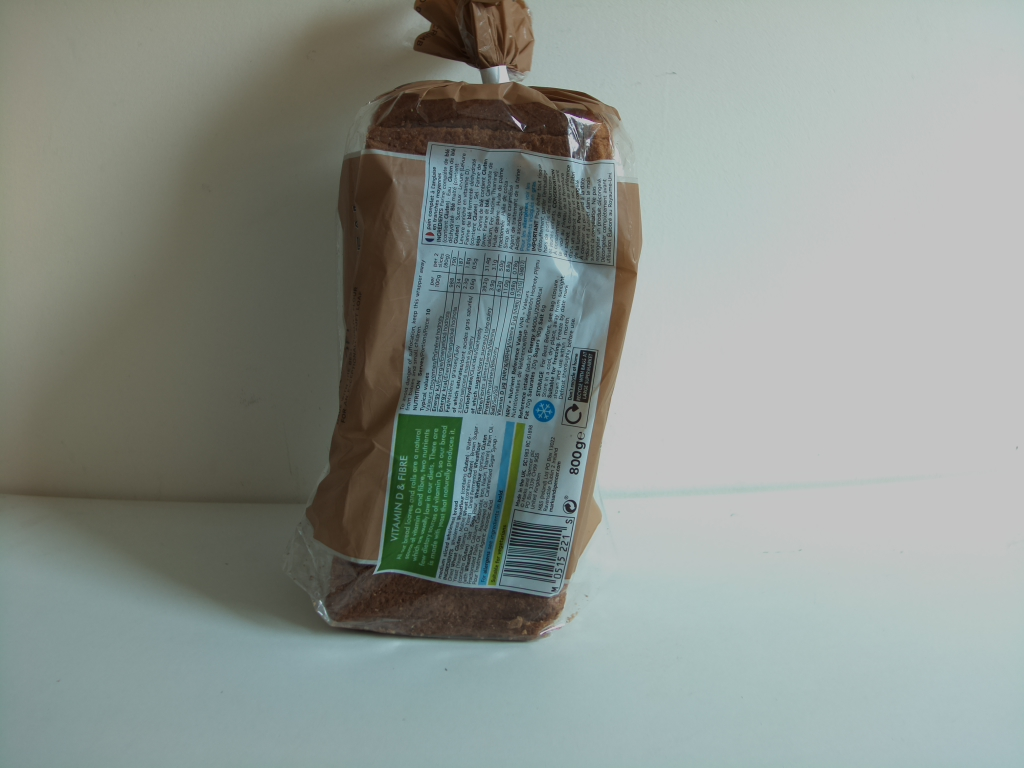bread: (298, 1, 645, 649)
